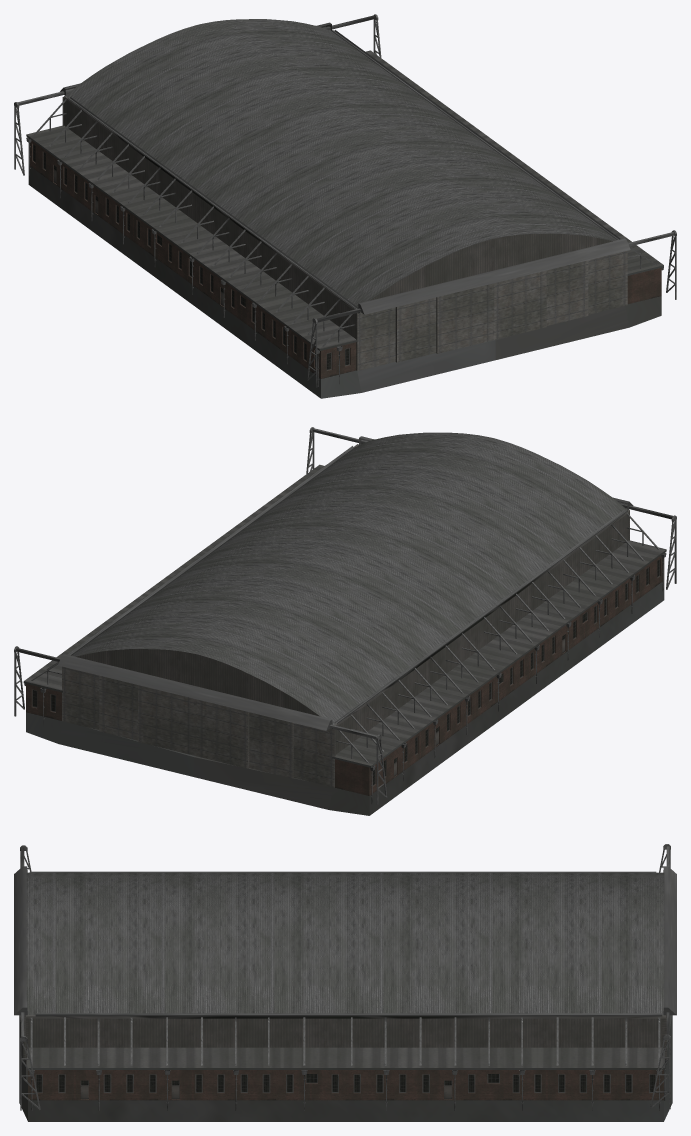
The model's file is j_type_hanger.glb.
3 renders of one model, top to bottom at view 1: azimuth 30°, elevation 25°; view 2: azimuth 150°, elevation 25°; view 3: azimuth 270°, elevation 25°, orthographic. The views are drawn at different scales.
Visible parts, largest first — view 1: Object_2, Object_3; view 2: Object_2, Object_3; view 3: Object_2, Object_3.
Part boxes in pixels (bbox=[...]): Object_2: bbox=[14, 14, 676, 398]; Object_3: bbox=[14, 14, 676, 386]; Object_2: bbox=[14, 427, 676, 815]; Object_3: bbox=[14, 427, 675, 804]; Object_2: bbox=[14, 844, 676, 1121]; Object_3: bbox=[20, 845, 676, 1110].
Bounding box in the file's own units: 61.89 × 19.3 × 89.88.
Materials: 1 (1 with a texture image).
